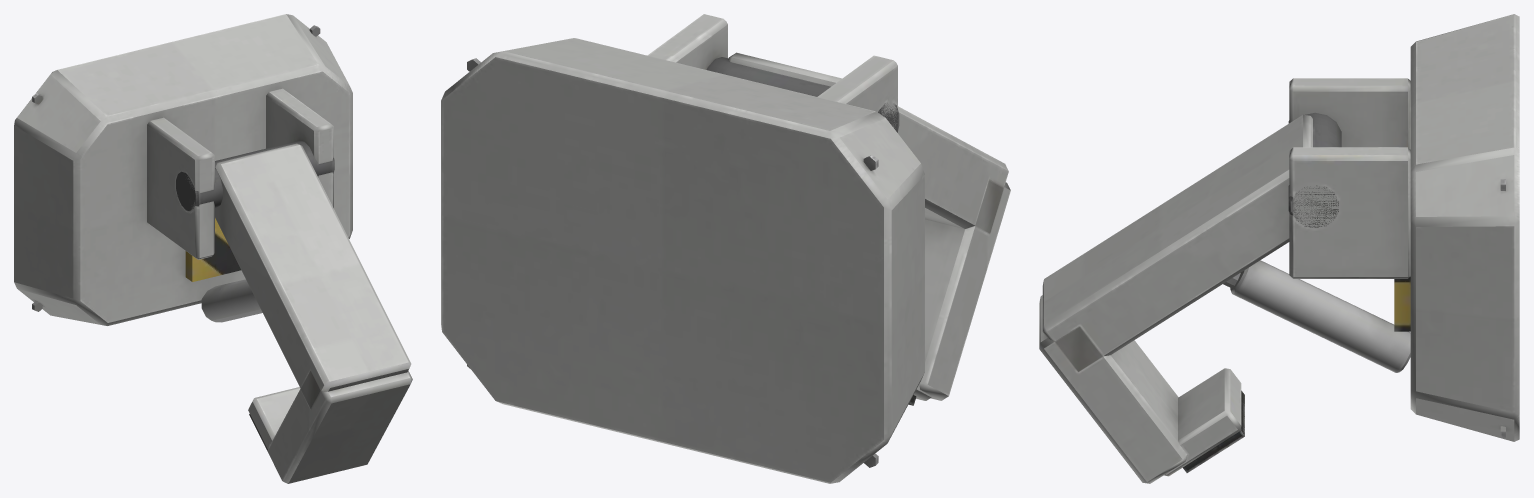
Rendered from clamp.glb.
3 renders of one model, left to right at view 1: azimuth 30°, elevation 25°; view 2: azimuth 150°, elevation 25°; view 3: azimuth 270°, elevation 25°, orthographic. The views are drawn at different scales.
Parts seen in each view (by area): view 1: clamp; view 2: clamp; view 3: clamp.
Boxes of the visible parts, bbox=[...] form: clamp: bbox=[14, 14, 412, 483]; clamp: bbox=[441, 14, 1010, 483]; clamp: bbox=[1039, 14, 1519, 483].
Size of the model in its own units: 1.59 by 1.54 by 1.76.
1 material, 1 textured.
